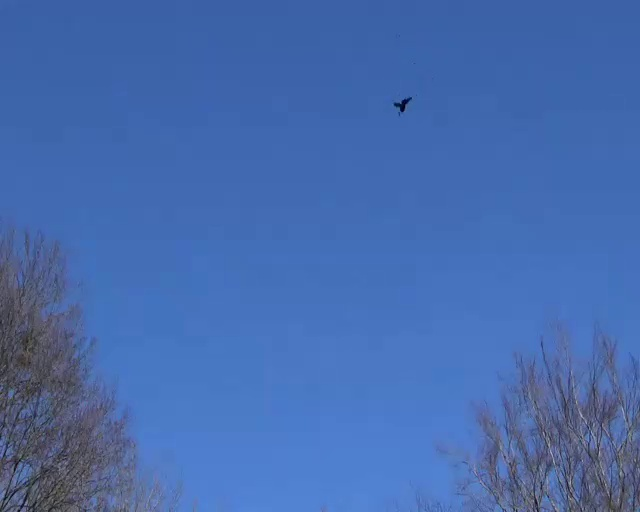BIRD: (393, 96, 413, 114)
